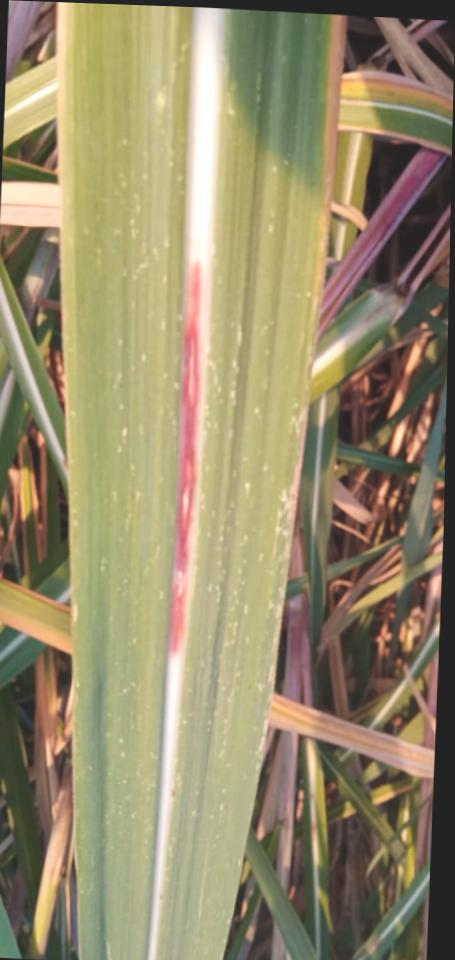RedRot: (168, 259, 200, 661)
